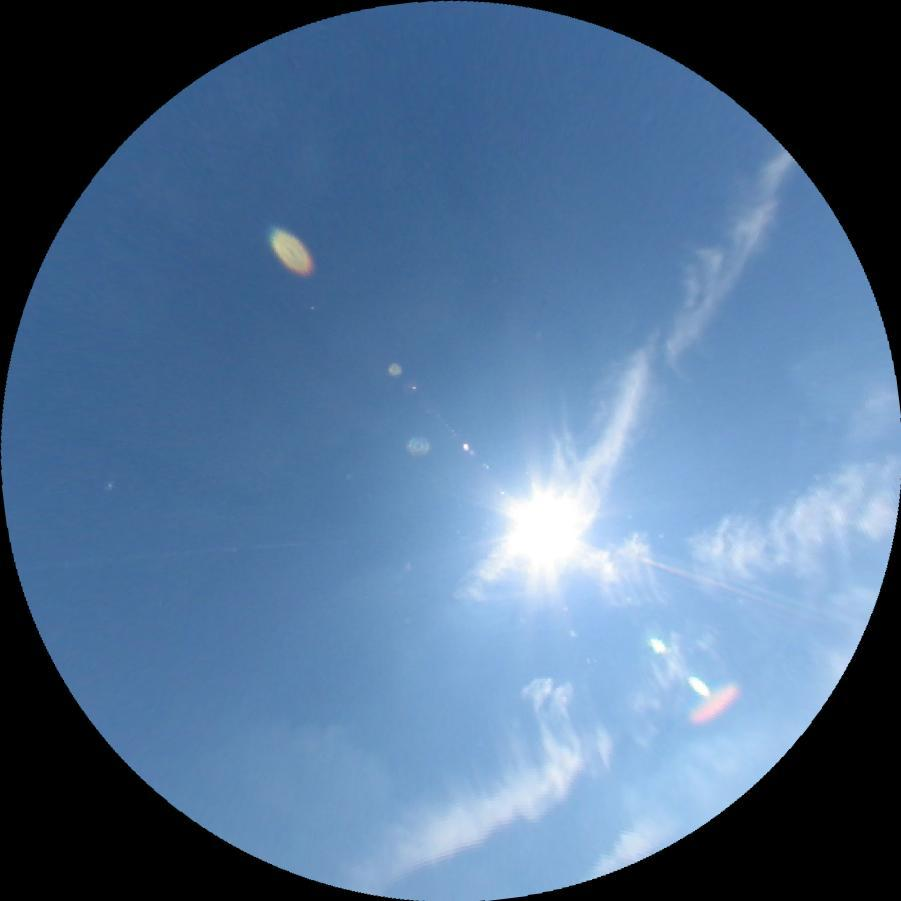contrail veryold: (450, 140, 832, 636)
parasite: (635, 551, 792, 613)
sun: (505, 490, 581, 562)
